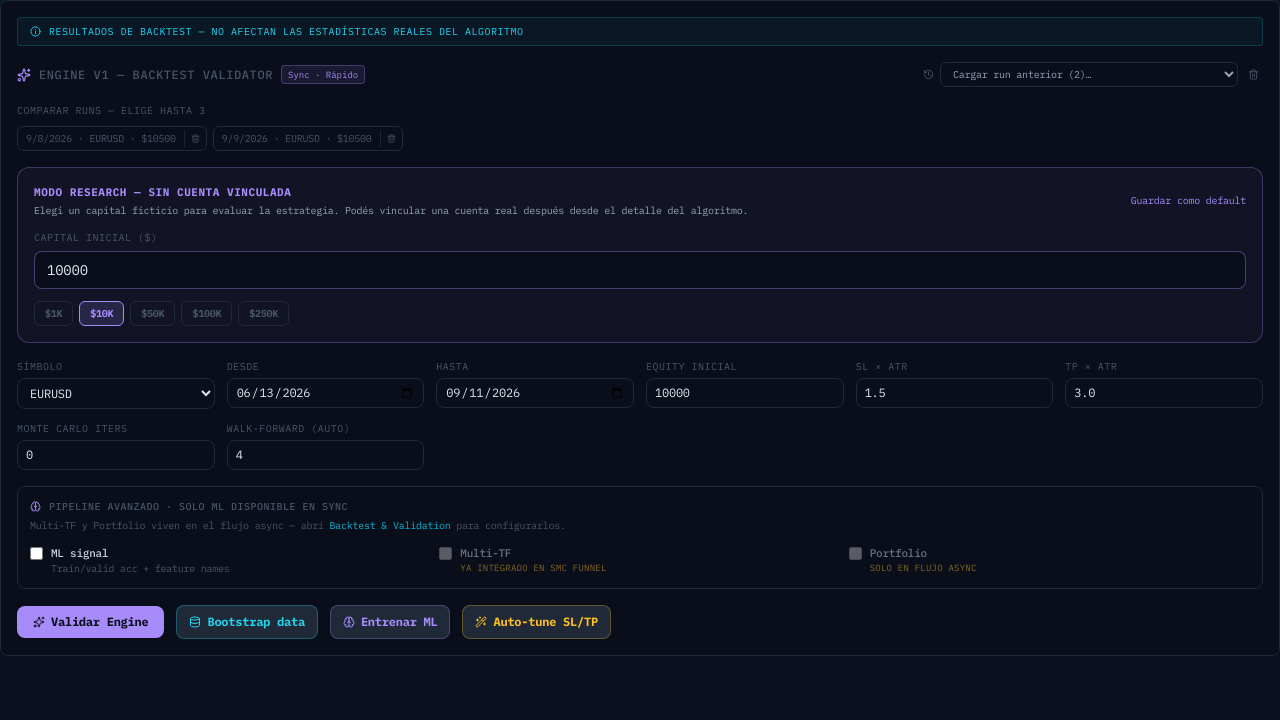
it: EngineBacktestPanel — Compare params snapshot (Mejora #7) › formats values per kind (money/num/int/bool)
Expected: the text "Comparar runs — elige hasta 3" is shown, top-left (17, 104), bottom-right (206, 117)
Click the button "9/8/2026 · EURUSD · $10500". click: [101, 138]
box: top-left (18, 127), bottom-right (184, 150)
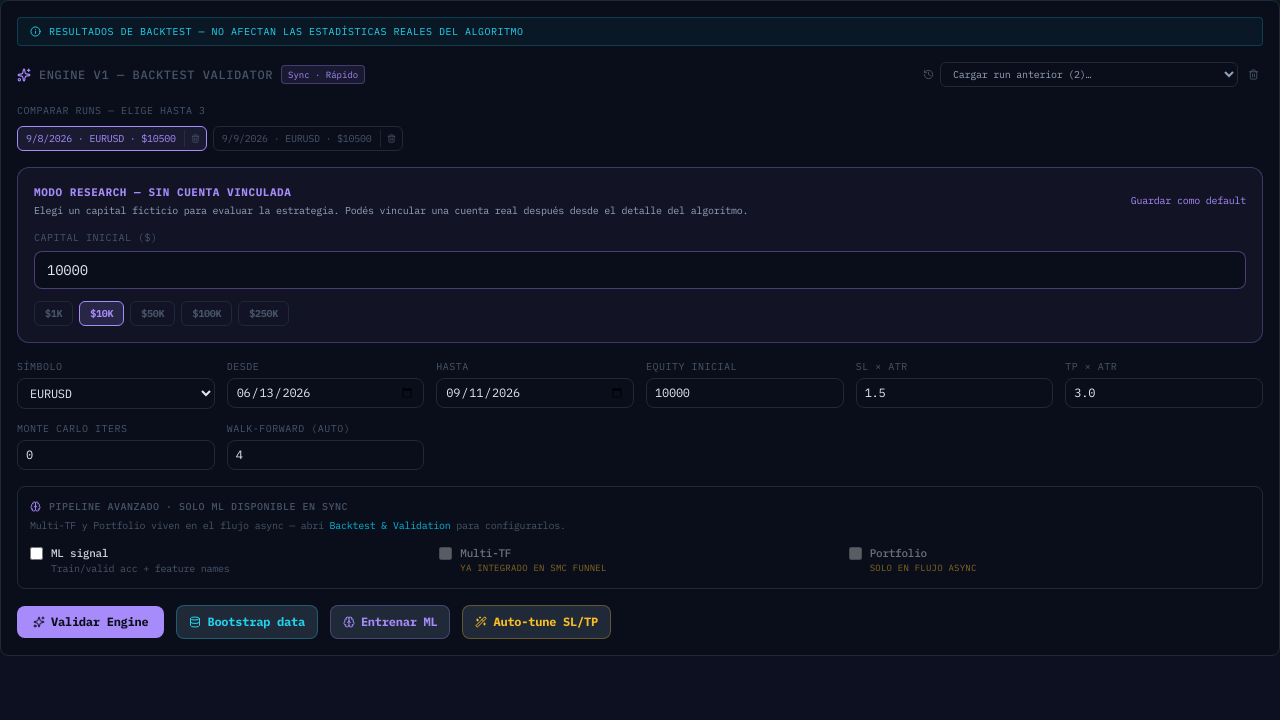
Click the button "9/9/2026 · EURUSD · $10500". click: [297, 138]
box: top-left (214, 127), bottom-right (380, 150)
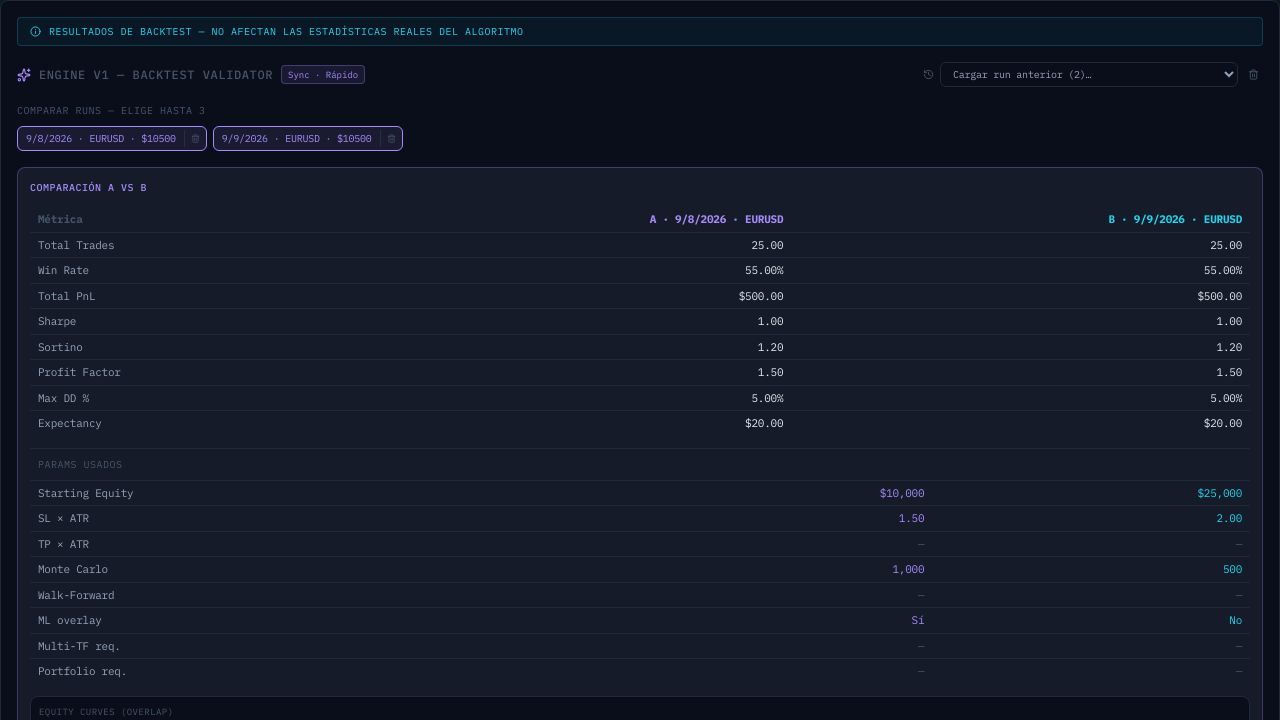
Now the element with test id "compare-params" is shown, box top-left (30, 448), bottom-right (1250, 684)
Now the cell with test id "param-cell-starting_equity-0" reads "$10,000", box top-left (880, 486), bottom-right (924, 500)
Now the cell with test id "param-cell-starting_equity-1" reads "$25,000", box top-left (1198, 486), bottom-right (1242, 500)
